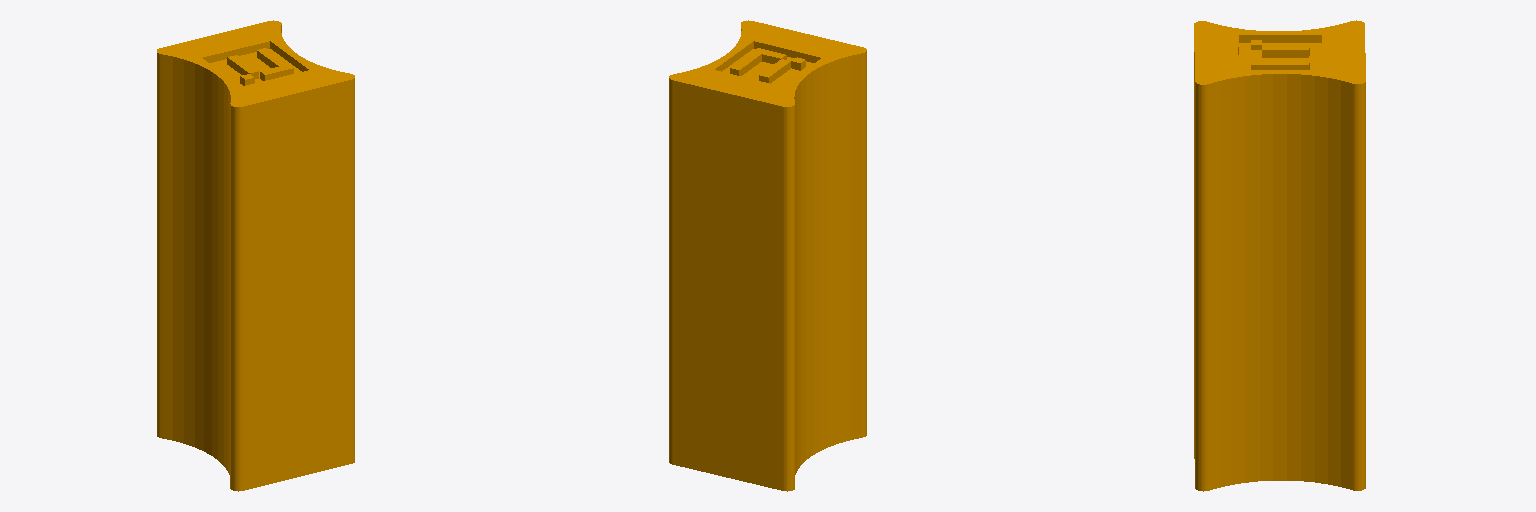
The robot description file, URDF, robot "40_square_40_concave":
<?xml version="1.0" ?>
<robot name="40_square_40_concave">

    <link concave="yes" name="40_square_40_concave">
        <visual>
            <origin rpy="1.5707963267948966 0 0" xyz="-0.0 0.00 -0.0"/>
            <geometry>
                <mesh filename="Shapes/40_square_40_concave.obj" scale="0.9 0.9 0.9"/>
            </geometry>
        </visual>
        <collision concave="yes">
            <origin rpy="1.5707963267948966 0 0" xyz="-0.0 0.0 -0.0"/>
            <geometry>
                <mesh filename="Shapes/40_square_40_concave.obj" scale="0.9 0.9 0.9"/>
            </geometry>
        </collision>
        <inertial>
            <mass value="0.3"/>
            <inertia ixx="0.000029435425" ixy="0.0" ixz="0.0" iyy="0.000029435425" iyz="0.0" izz="0.00000725805"/>
        </inertial>
    </link>

</robot>

--- Facts derived from the render (not from the file) ---
Views: 3 orthographic renders of the robot side by side, from view 1: azimuth 30°, elevation 25°; view 2: azimuth 150°, elevation 25°; view 3: azimuth 270°, elevation 25°.
Robot: 40_square_40_concave — 1 links, 0 joints (none); root link 40_square_40_concave; default pose: every joint at zero.
Links seen in each view (by area): view 1: 40_square_40_concave; view 2: 40_square_40_concave; view 3: 40_square_40_concave.
Link boxes in pixels (<box>): 40_square_40_concave: <box>157,20,354,491</box>; 40_square_40_concave: <box>669,20,866,491</box>; 40_square_40_concave: <box>1194,20,1365,491</box>.
Bounding box of the posed robot: 0.032 × 0.0362 × 0.0945 m (x, y, z).
1 mesh visuals loaded from 1 distinct referenced files (1 OBJ).
